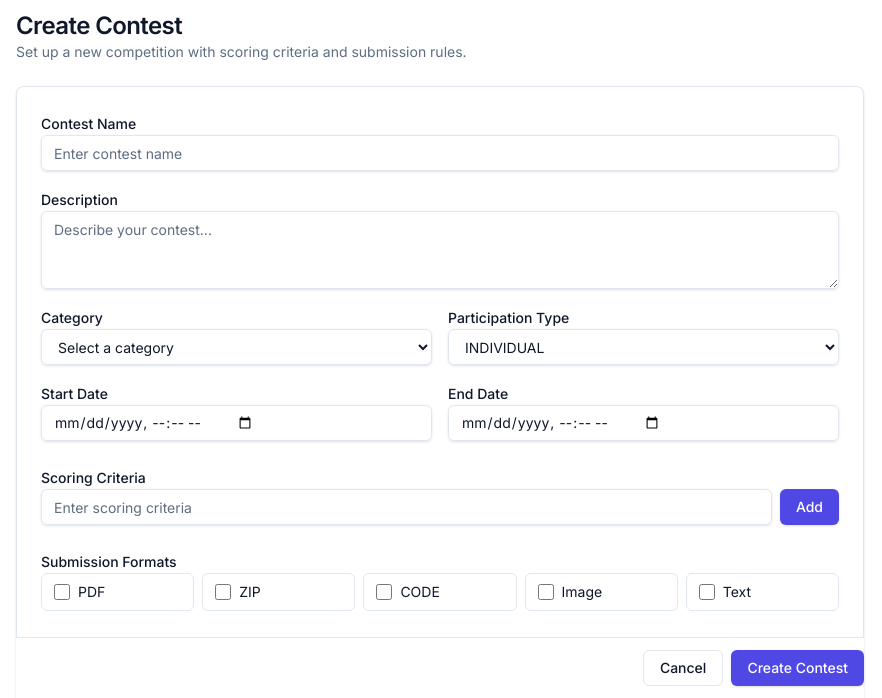
Test: OrganizerContest › can add and remove scoring criteria
This screenshot has width=882, height=698.
In the field with placeholder "Enter scoring criteria": {"x": 406, "y": 507} [41,489,772,525], type "Creativity"
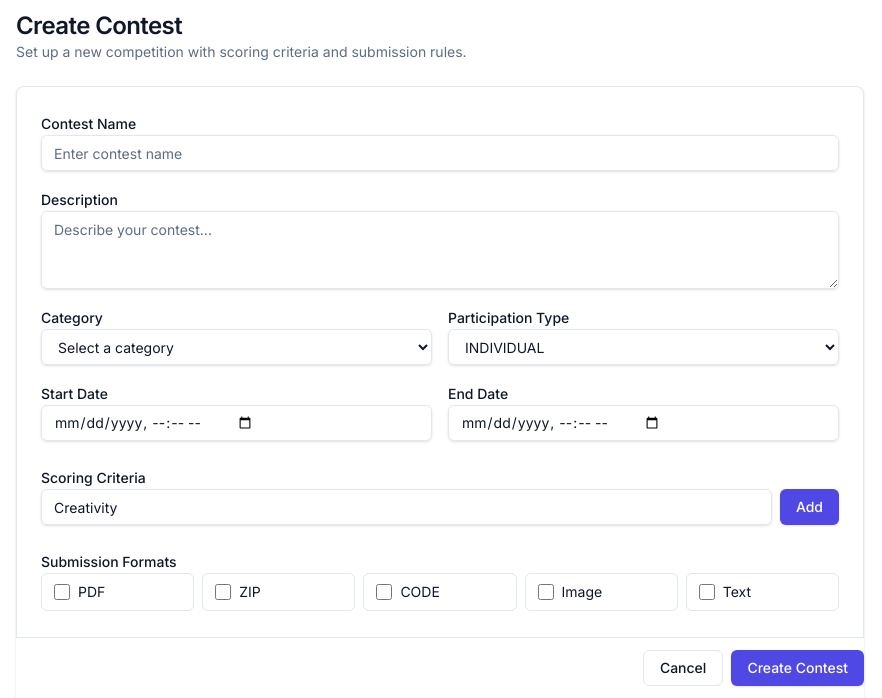
Click the button "Add": {"x": 809, "y": 507} [780,489,839,525]
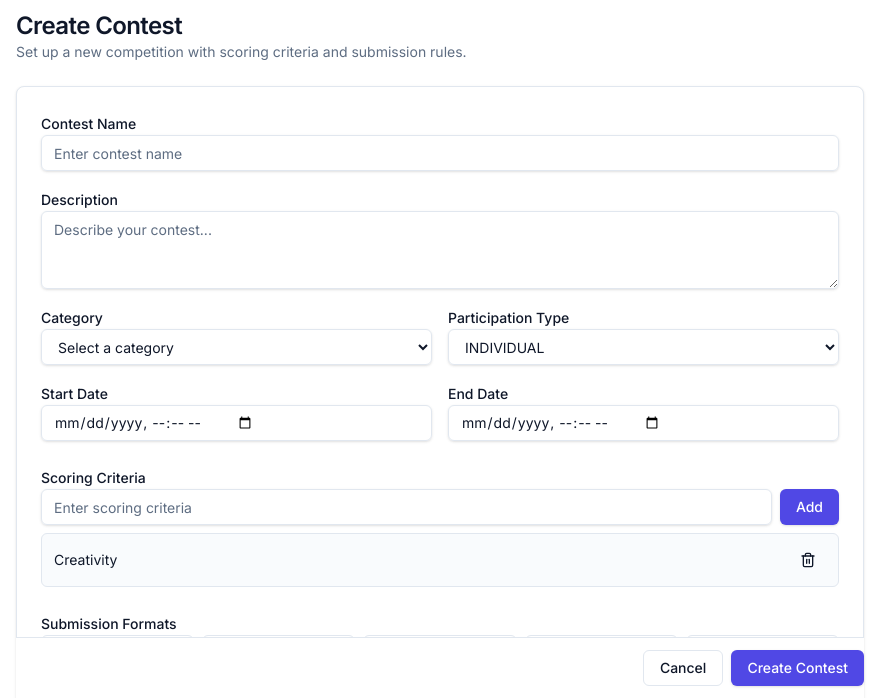
Result: the text "Creativity" is shown at [54,550,117,570]
Click the button named "Remove criterion": {"x": 808, "y": 560} [790,542,826,578]
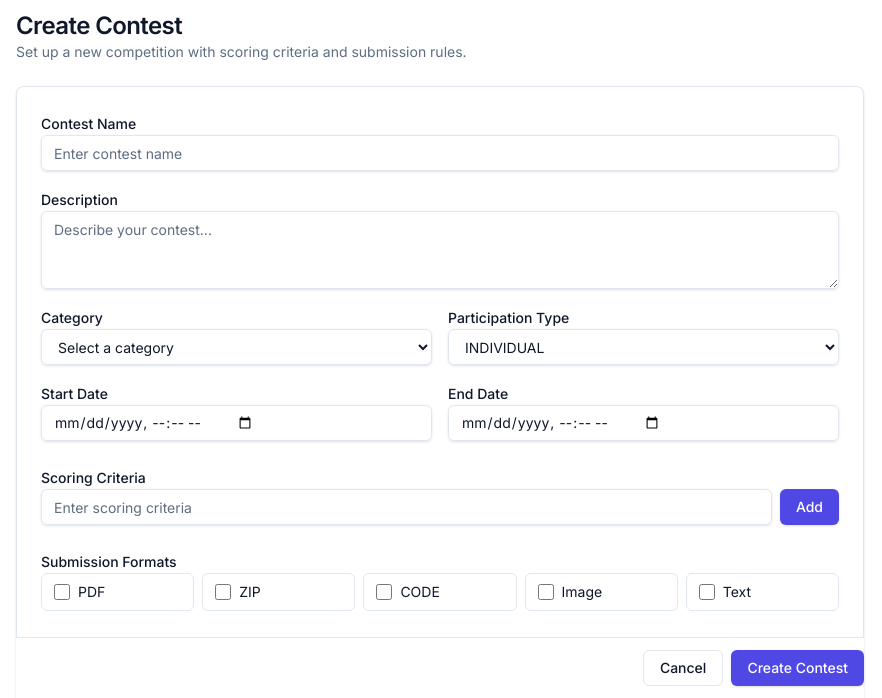
Result: the text "Creativity" is gone
